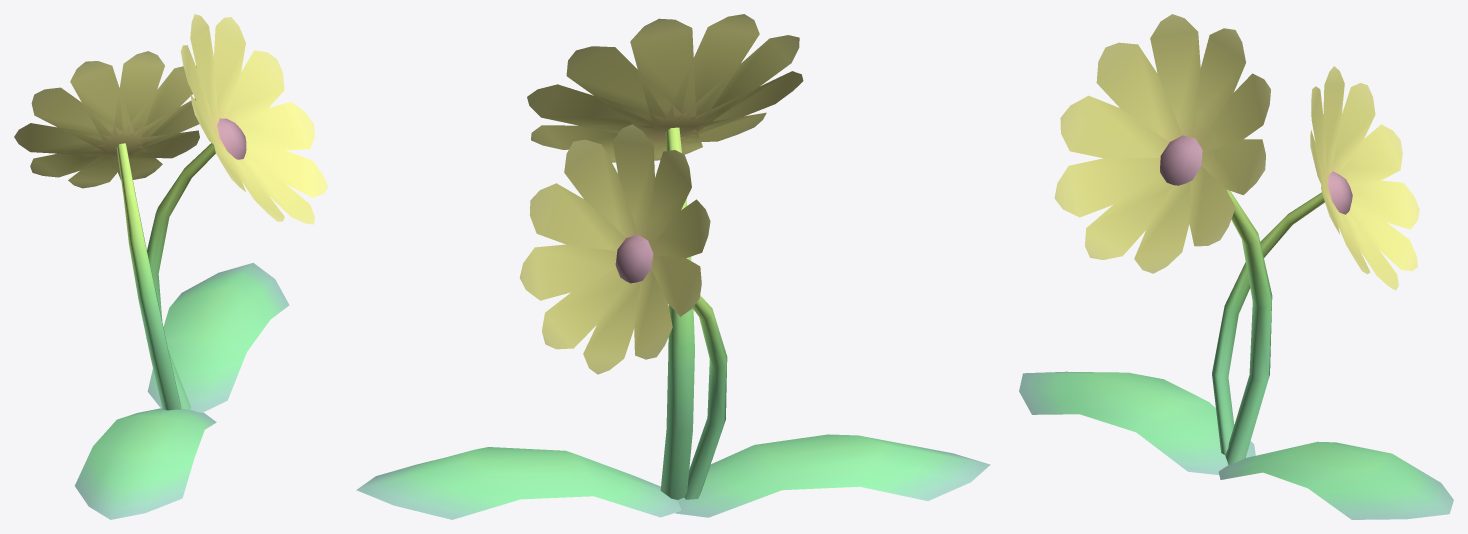
The model's file is Flower.016_Base_Material_0.fbx.
3 renders of one model, left to right at view 1: azimuth 30°, elevation 25°; view 2: azimuth 150°, elevation 25°; view 3: azimuth 270°, elevation 25°, orthographic. The views are drawn at different scales.
Visible parts, largest first — view 1: Flower.016_Base_Material_0_export; view 2: Flower.016_Base_Material_0_export; view 3: Flower.016_Base_Material_0_export.
Boxes of the visible parts, box(x1,y1,x2,y2) form: Flower.016_Base_Material_0_export: box(14, 14, 327, 519); Flower.016_Base_Material_0_export: box(356, 14, 990, 519); Flower.016_Base_Material_0_export: box(1019, 14, 1453, 519).
Size of the model in its own units: 2.39 by 2.68 by 2.37.
